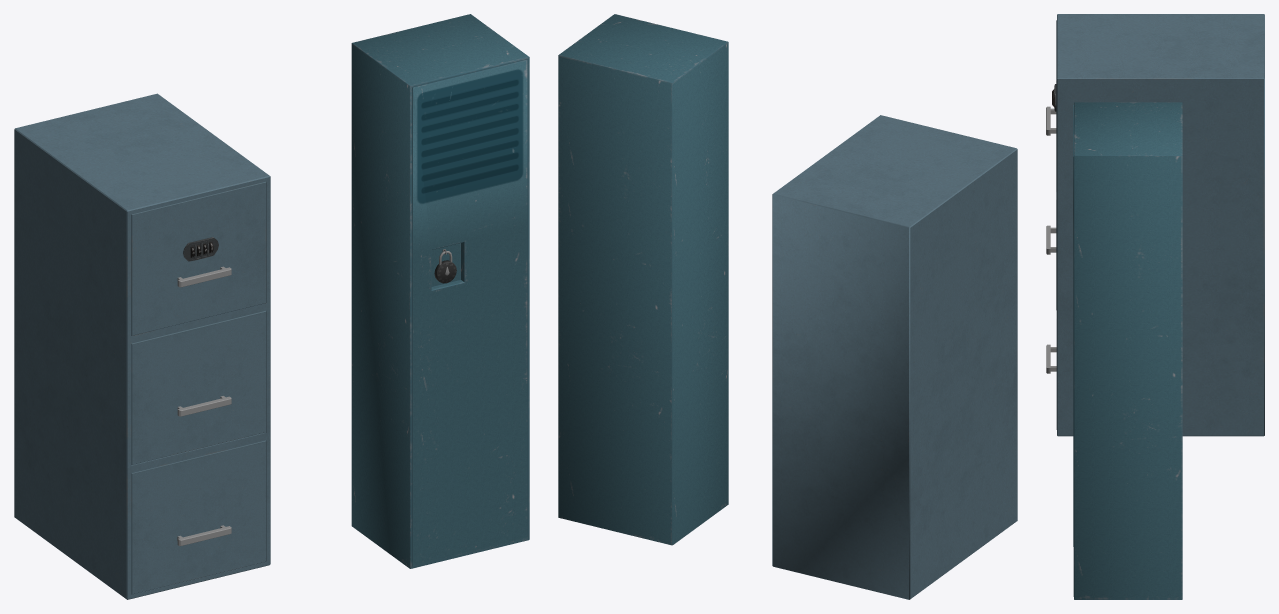
File: lockers.glb
The picture shows the model from 3 angles, left to right: view 1: azimuth 30°, elevation 25°; view 2: azimuth 150°, elevation 25°; view 3: azimuth 270°, elevation 25°; orthographic projection. The views are drawn at different scales.
Visible parts, largest first — view 1: Locker1, Door_Locker2, Locker2, Drawer_Middle_Locker1, Drawer_Top_Locker1, Drawer_Bottom_Locker1; view 2: Locker1, Locker2; view 3: Locker2, Locker1, Door_Locker2, Drawer_Top_Locker1, Drawer_Middle_Locker1, Drawer_Bottom_Locker1.
Boxes of the visible parts, x1=… form: Locker1: x1=14, y1=93, x2=270, y2=599; Door_Locker2: x1=412, y1=59, x2=527, y2=566; Locker2: x1=351, y1=14, x2=529, y2=568; Drawer_Middle_Locker1: x1=131, y1=310, x2=266, y2=464; Drawer_Top_Locker1: x1=131, y1=181, x2=266, y2=335; Drawer_Bottom_Locker1: x1=131, y1=440, x2=266, y2=594; Locker1: x1=772, y1=115, x2=1017, y2=599; Locker2: x1=558, y1=14, x2=728, y2=545; Locker2: x1=1074, y1=102, x2=1182, y2=599; Locker1: x1=1057, y1=14, x2=1264, y2=436; Door_Locker2: x1=1073, y1=105, x2=1073, y2=596; Drawer_Top_Locker1: x1=1046, y1=20, x2=1056, y2=191; Drawer_Middle_Locker1: x1=1046, y1=192, x2=1056, y2=310; Drawer_Bottom_Locker1: x1=1046, y1=311, x2=1056, y2=429.
Size of the model in its own units: 2.56 by 2.87 by 1.28.
Materials: 2 (2 with a texture image).
